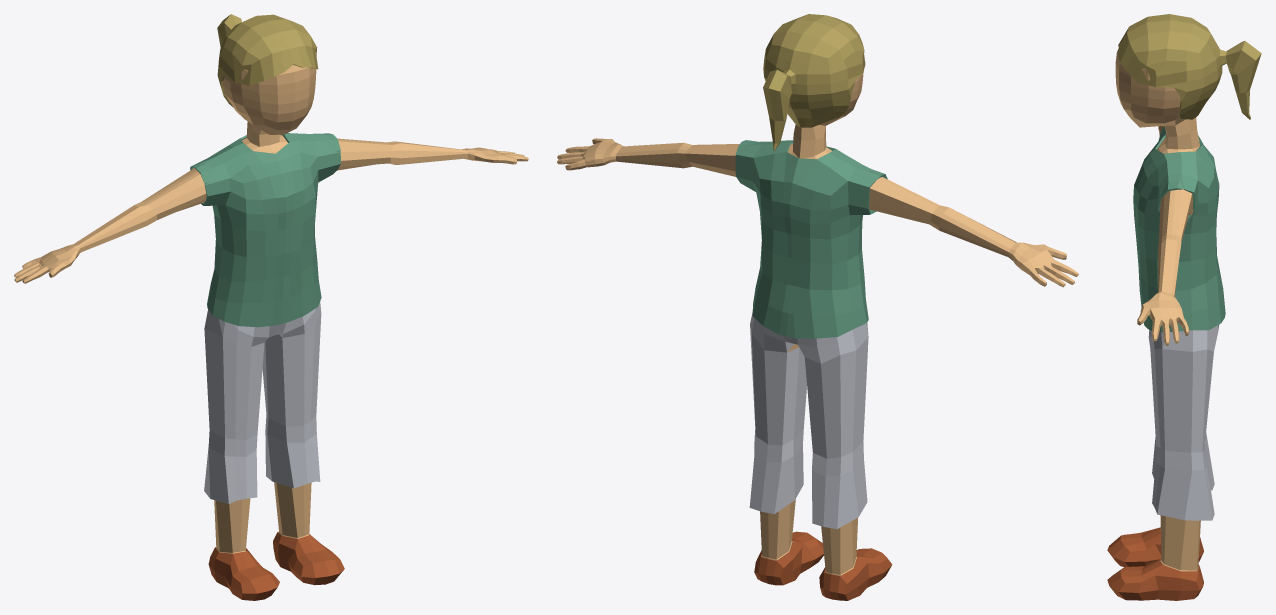
File: finalguy2.fbx
3 renders of one model, left to right at view 1: azimuth 30°, elevation 25°; view 2: azimuth 150°, elevation 25°; view 3: azimuth 270°, elevation 25°, orthographic.
Visible parts, largest first — view 1: shirt, pants, body, hair, shoes; view 2: shirt, pants, body, hair, shoes; view 3: shirt, pants, body, hair, shoes.
Part boxes in pixels (x1,y1,x2,y2): shirt: (190, 133, 340, 327); pants: (204, 301, 321, 503); body: (14, 52, 528, 553); hair: (217, 14, 318, 106); shoes: (208, 531, 344, 600); shirt: (735, 140, 887, 338); pants: (749, 312, 868, 529); body: (557, 72, 1078, 575); hair: (763, 14, 865, 150); shoes: (754, 531, 892, 600); shirt: (1133, 126, 1225, 332); pants: (1148, 325, 1218, 520); body: (1115, 49, 1200, 571); hair: (1118, 14, 1261, 119); shoes: (1107, 527, 1203, 600).
Size of the model in its own units: 7.23 by 7.5 by 1.88.
